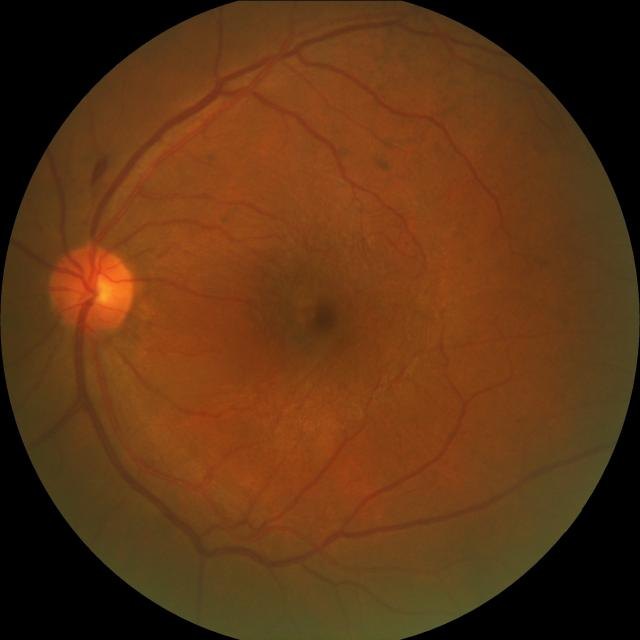OC: (80, 269, 115, 307)
OD: (46, 242, 134, 335)
